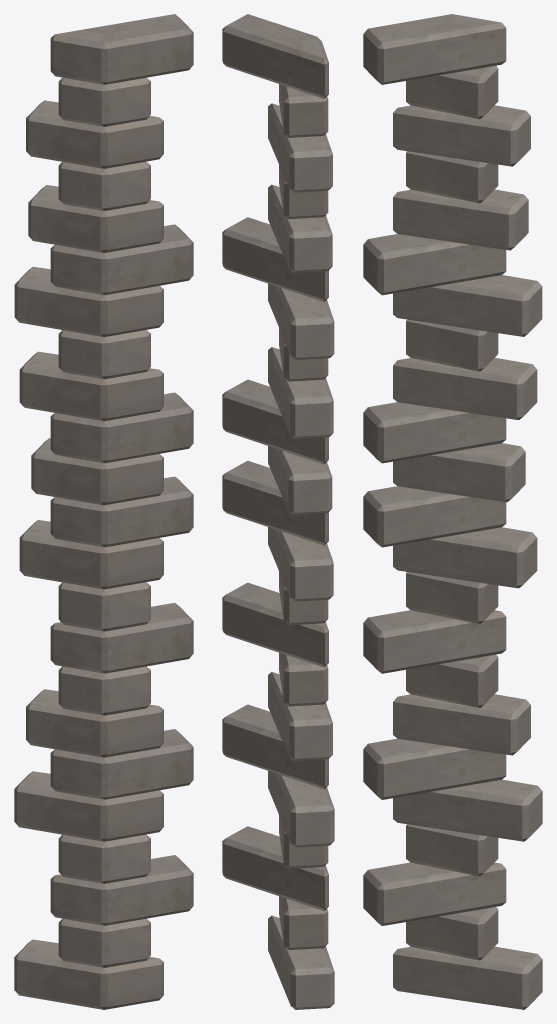
Rendered from SM_Corner_Big_Tower_L.fbx.
3 views of the same model, side by side, from view 1: azimuth 90°, elevation 25°; view 2: azimuth 210°, elevation 25°; view 3: azimuth 270°, elevation 25° (orthographic). The views are drawn at different scales.
Visible parts, largest first — view 1: SM_Corner_Big_Tower_L_LOD0; view 2: SM_Corner_Big_Tower_L_LOD0; view 3: SM_Corner_Big_Tower_L_LOD0.
Boxes of the visible parts, x1=… form: SM_Corner_Big_Tower_L_LOD0: x1=14, y1=14, x2=193, y2=1009; SM_Corner_Big_Tower_L_LOD0: x1=222, y1=14, x2=334, y2=1009; SM_Corner_Big_Tower_L_LOD0: x1=363, y1=14, x2=542, y2=1009.
Bounding box in the file's own units: 83.09 × 193 × 1150.
1 material, 1 textured.
